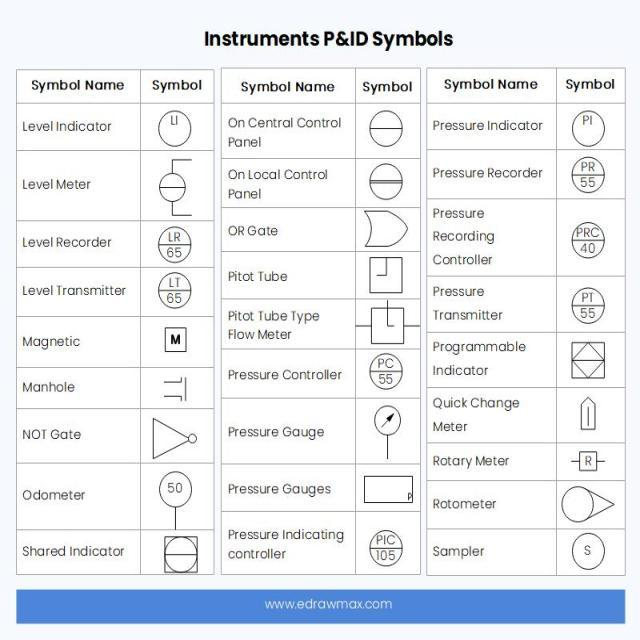Level Indicator: (149, 104, 196, 149)
Level Meter: (149, 154, 205, 218)
Level Recorder: (150, 220, 202, 266)
Level Trasmitter: (148, 268, 196, 314)
Mangnetic: (152, 322, 192, 355)
Manhole: (156, 368, 190, 404)
Not Gate: (144, 412, 203, 466)
Odometer: (154, 468, 198, 524)
Pressure Controller: (378, 356, 396, 369)
Pressure Gauge: (359, 401, 407, 459)
Pressure Indicating Controller: (366, 522, 409, 570)
Pressure Indicator: (564, 106, 606, 148)
Pressure Recorder: (566, 155, 608, 194)
Pressure Recording Controller: (556, 212, 611, 260)
Pressure Transmitter: (568, 280, 606, 325)
Rotary Meter: (572, 444, 605, 471)
Sampler: (560, 533, 614, 576)
